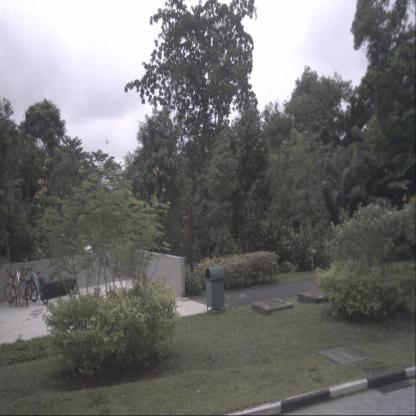vehicle-bicycle: (27, 263, 49, 305), (18, 256, 32, 306), (4, 260, 17, 308)
